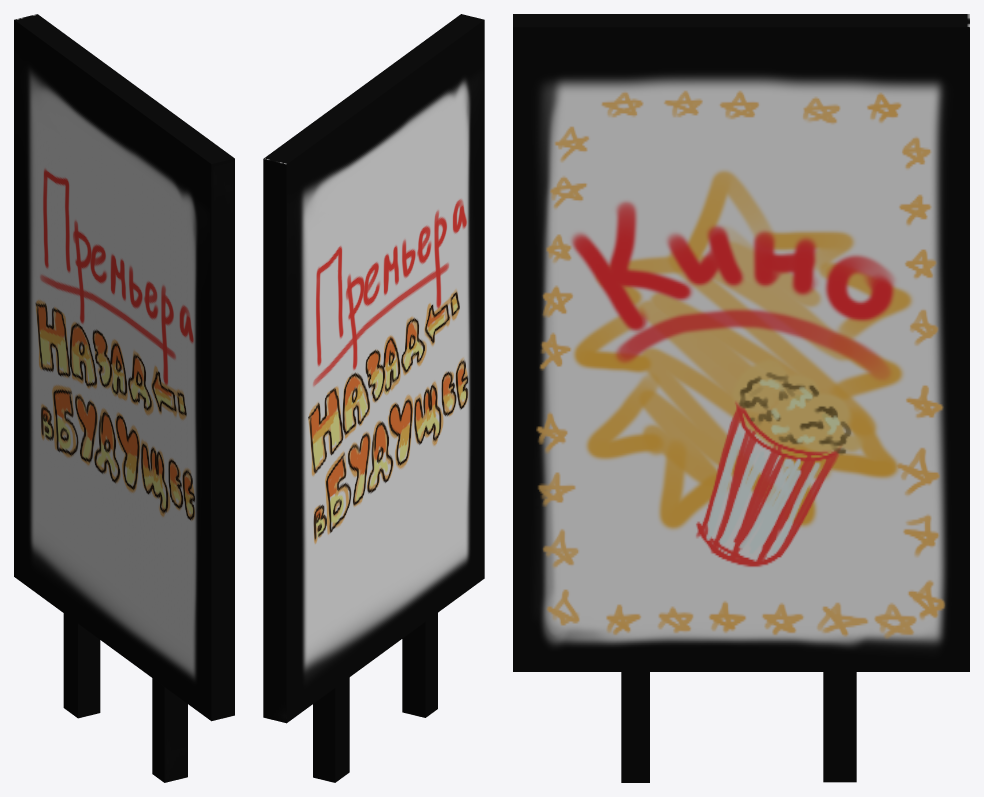
Rendered from SignCinemd.glb.
3 views of the same model, side by side, from view 1: azimuth 30°, elevation 25°; view 2: azimuth 150°, elevation 25°; view 3: azimuth 270°, elevation 25° (orthographic). The views are drawn at different scales.
Parts seen in each view (by area): view 1: Cube; view 2: Cube; view 3: Cube.
Part boxes in pixels (x1,y1,x2,y2): Cube: [14, 14, 234, 782]; Cube: [263, 14, 484, 782]; Cube: [513, 14, 969, 782].
Size of the model in its own units: 0.2205 by 5.84 by 3.2.
1 material, 1 textured.
